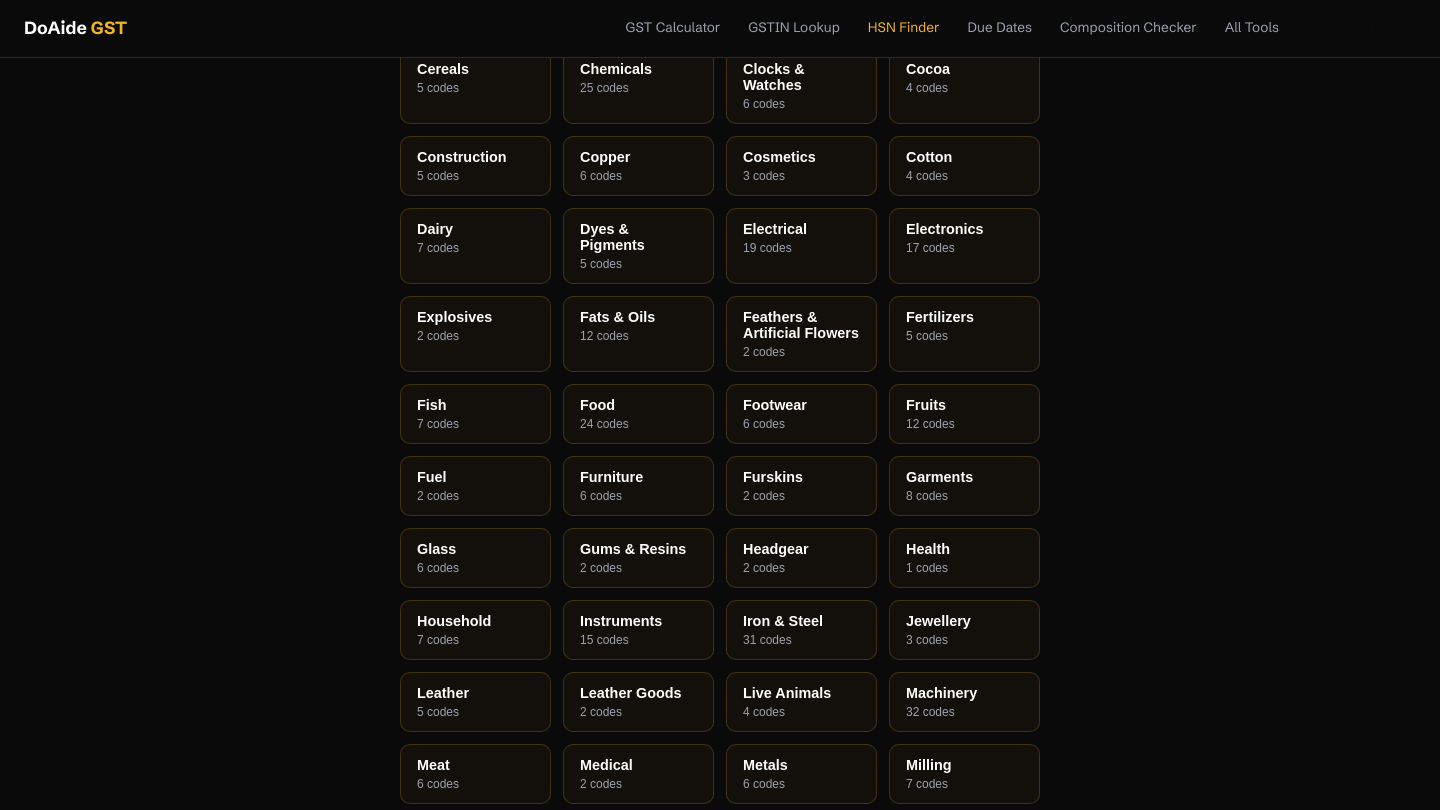
Test case: HsnFinderPage › clicking a category populates the search
(page scrolled)
Click the text "Food" at [598, 405], box left=580, top=397, right=615, bottom=413
(page scrolled)
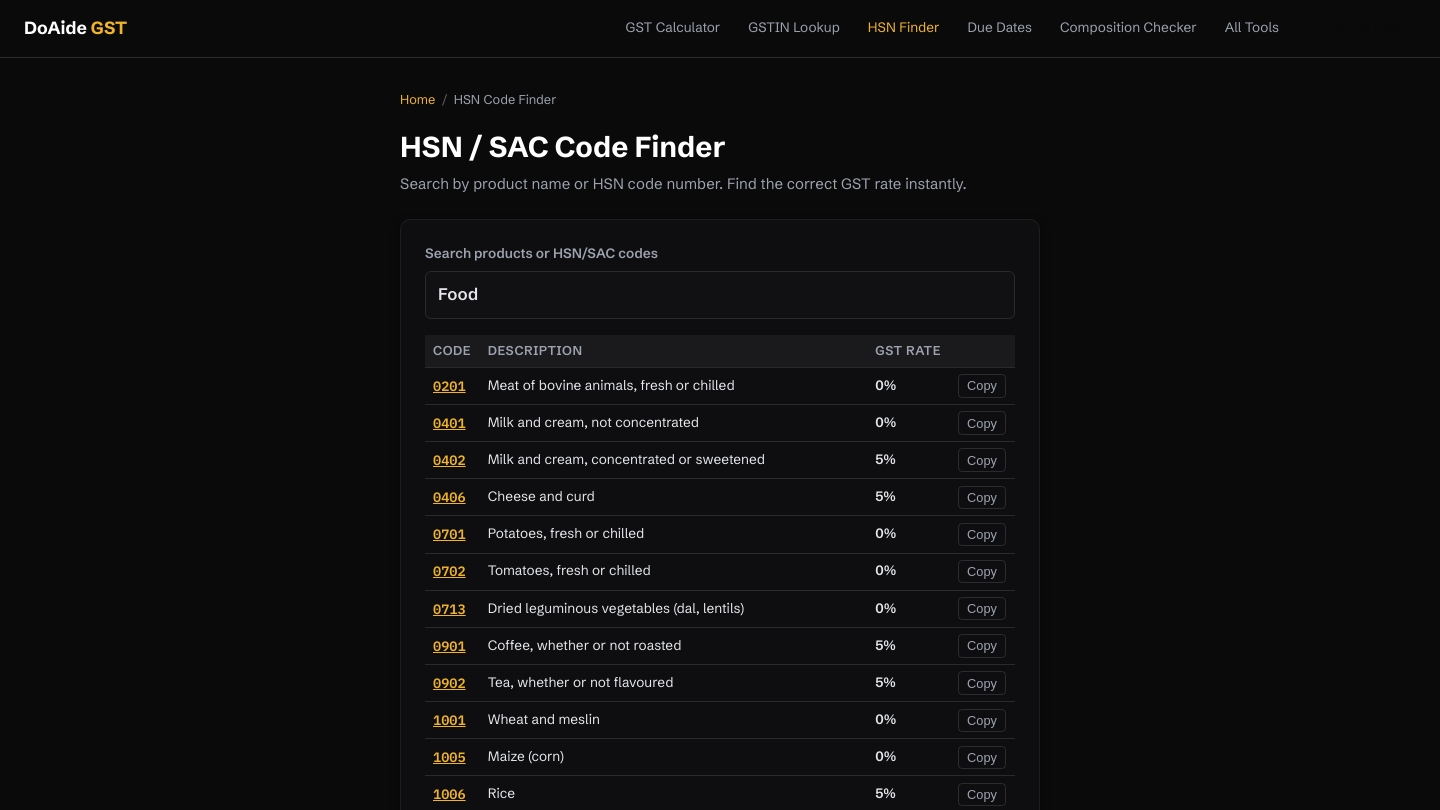
Expected: the search field with placeholder "e.g. \"laptop\", \"1006\", \"construction services\"" holds "Food", left=425, top=271, right=1015, bottom=319
